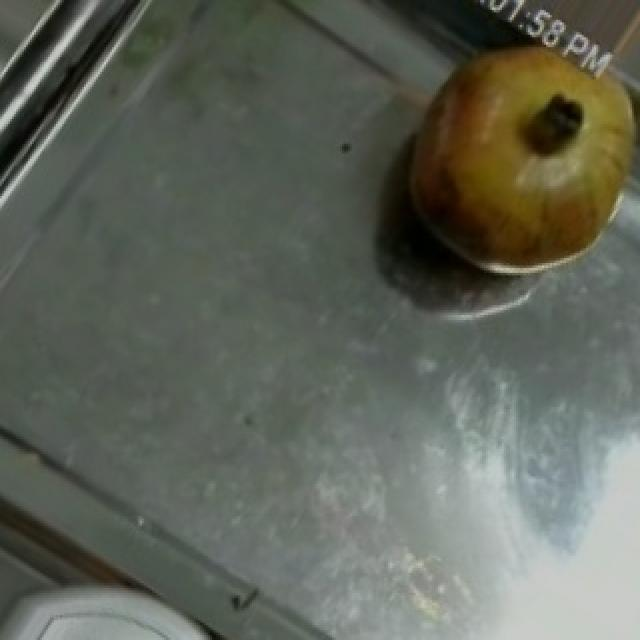fruit: (386, 0, 640, 270)
